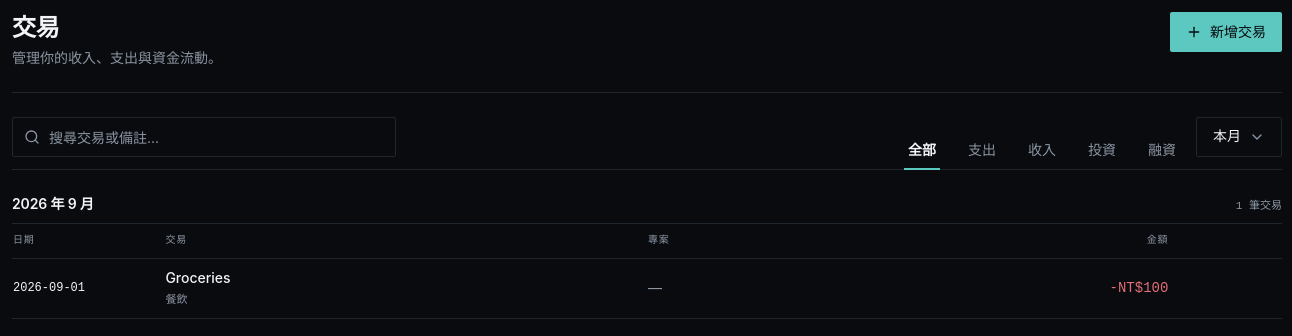
Test case: TransactionsPage system filter › shows filter-empty copy instead of the period-empty state when a search matches nothing
Type "zzz-no-match" into the search field labelled "搜尋交易" at (204, 137), box [12, 117, 396, 157]
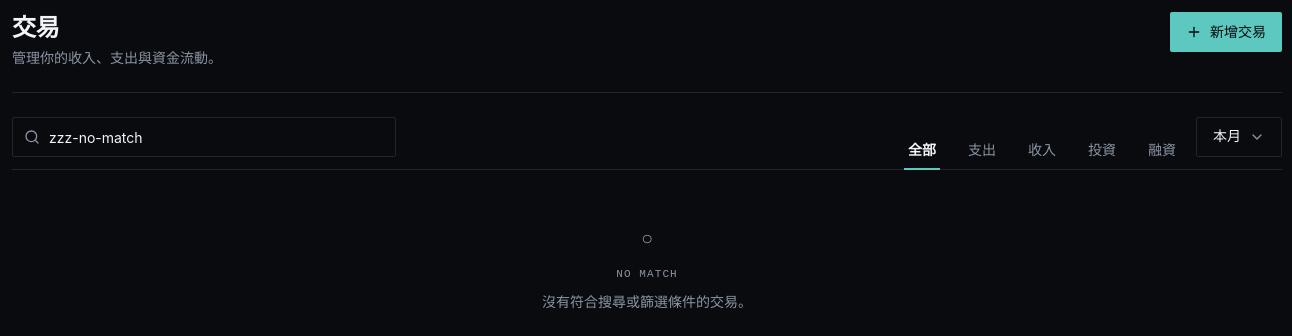
Expected: the text "NO MATCH" is shown, [616, 266, 678, 282]
Expected: the text "沒有符合搜尋或篩選條件的交易。" is shown, [542, 290, 752, 313]
